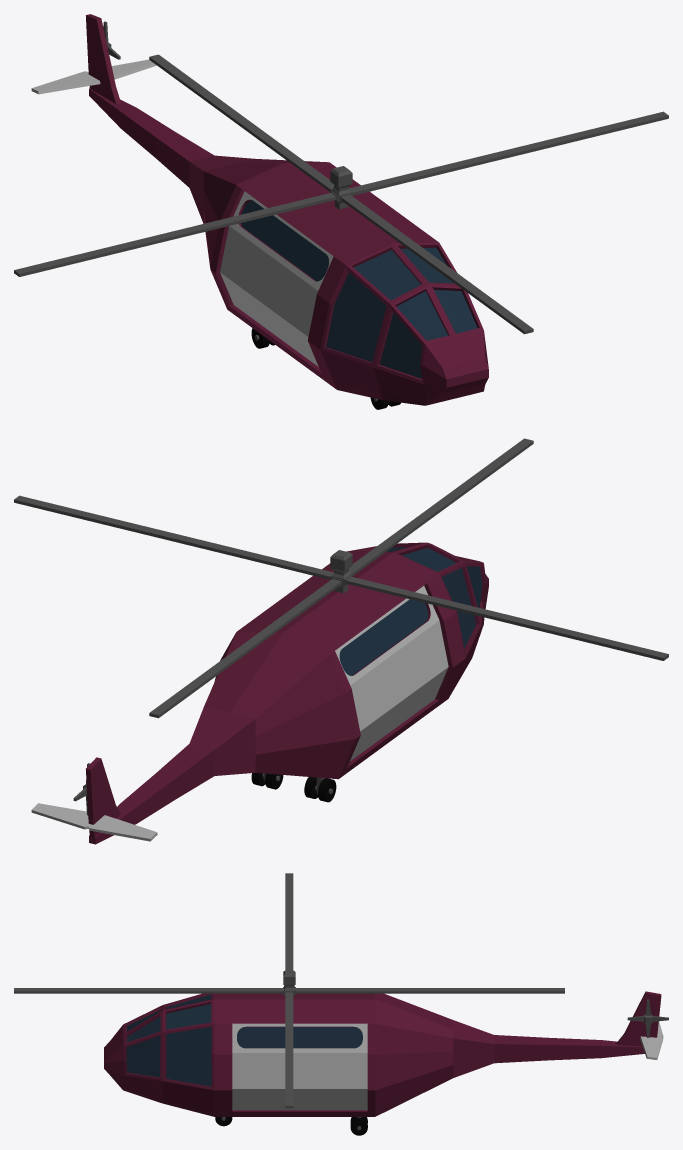
File: Helicopter.fbx
The picture shows the model from 3 angles, top to bottom: view 1: azimuth 30°, elevation 25°; view 2: azimuth 150°, elevation 25°; view 3: azimuth 270°, elevation 25°; orthographic projection. The views are drawn at different scales.
Parts seen in each view (by area): view 1: Helicopter; view 2: Helicopter; view 3: Helicopter.
Part boxes in pixels (<box>): Helicopter: <box>14,14,668,409</box>; Helicopter: <box>14,438,668,844</box>; Helicopter: <box>14,873,663,1135</box>.
Size of what is drawn, in the model's own units: 1024 by 308 by 1218.
